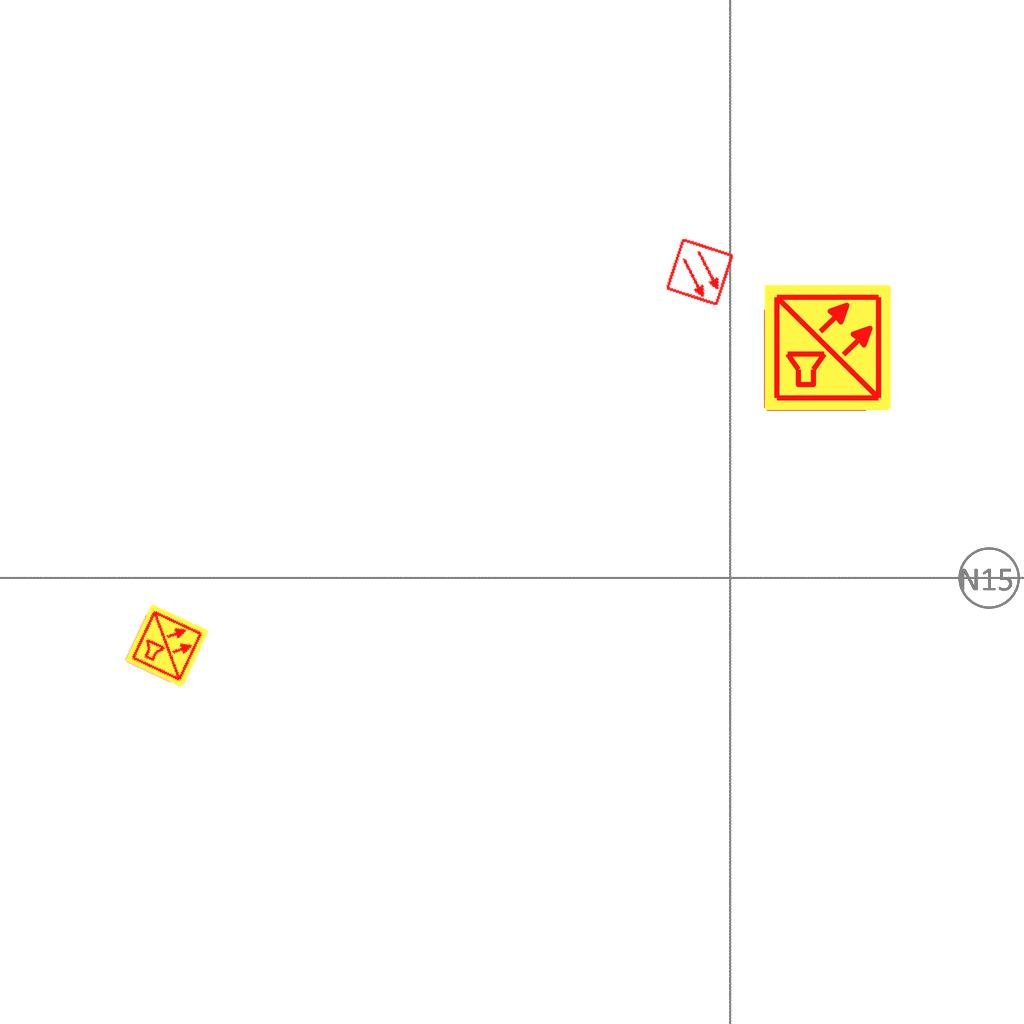OKW_Multisensormelder_(Kombination_optischer_Rauch-Kahlenmonoxid_Waerme-Melder): (762, 282, 894, 414), (123, 602, 211, 690)
RMO_Rauchmelder_optischer: (664, 236, 736, 308)
